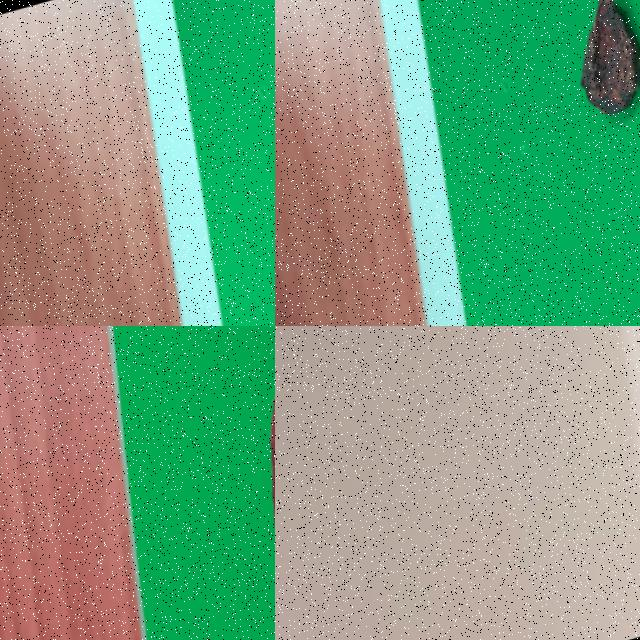Fine_cocoabeans: (207, 326, 274, 639)
Flat_cocoabeans: (459, 0, 639, 325)
